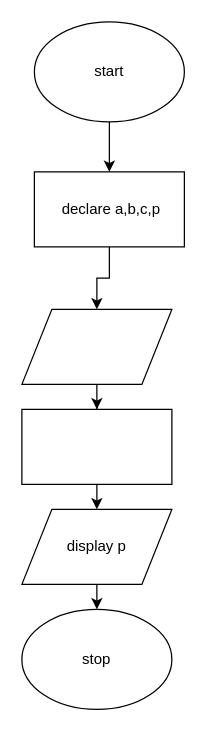
Image size: 206x731. Some labels were removed from this diagram. Here are the shapes that lost their labels. From the top down, the box of each, then its label:
(21, 308, 172, 384): read a,b,c
(21, 408, 172, 484): p=a + b+ c
